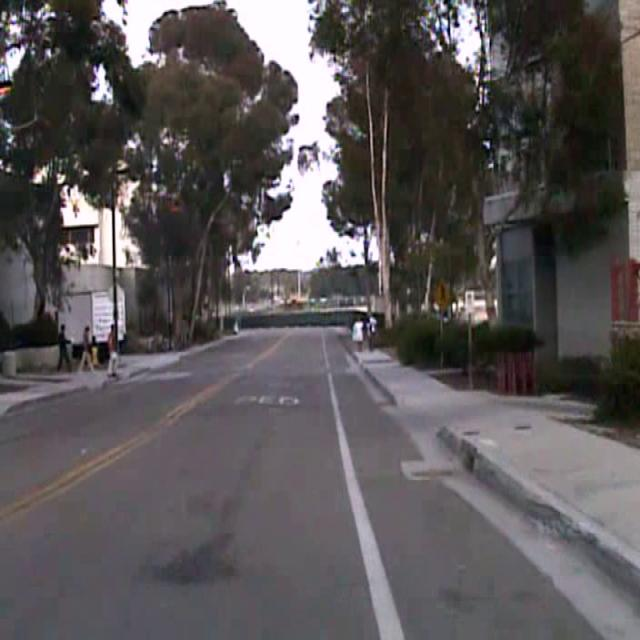pedestrianCrossing: (432, 275, 453, 316)
